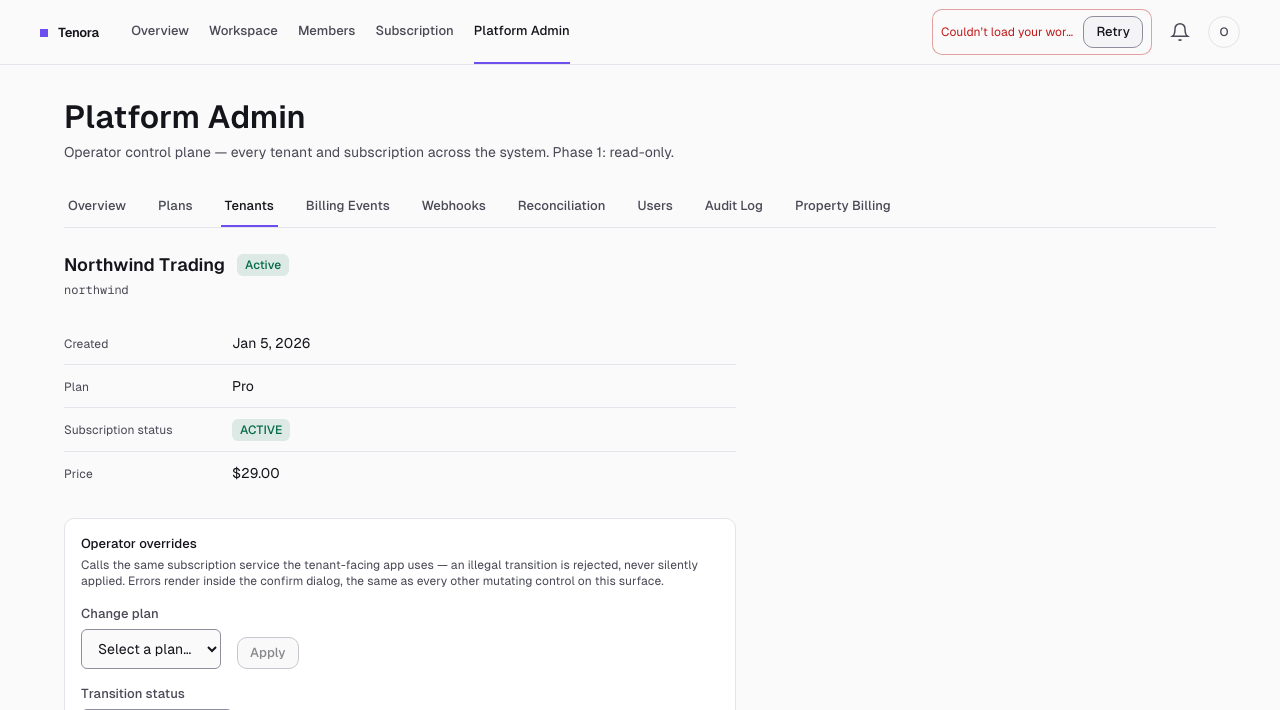
Test: TenantDetailPage — subscription override controls (Phase 2) › no mutation happens before the confirm modal is accepted
The image size is (1280, 710).
Check: the heading "Northwind Trading" is shown, box top-left (64, 252), bottom-right (225, 278)
Select "Team" in the dropdown labelled "Change plan": (151, 649) top-left (81, 629), bottom-right (221, 669)
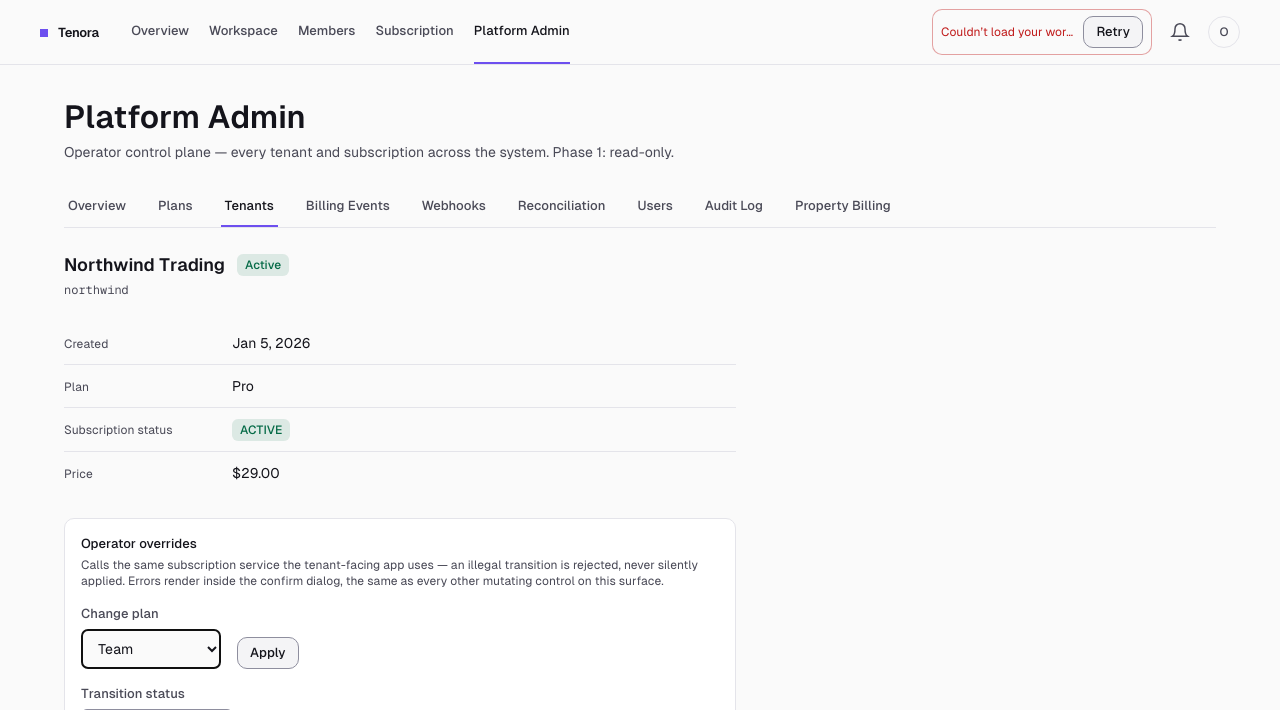
Click the button "Apply" below "Change plan": (268, 653) top-left (237, 637), bottom-right (299, 669)
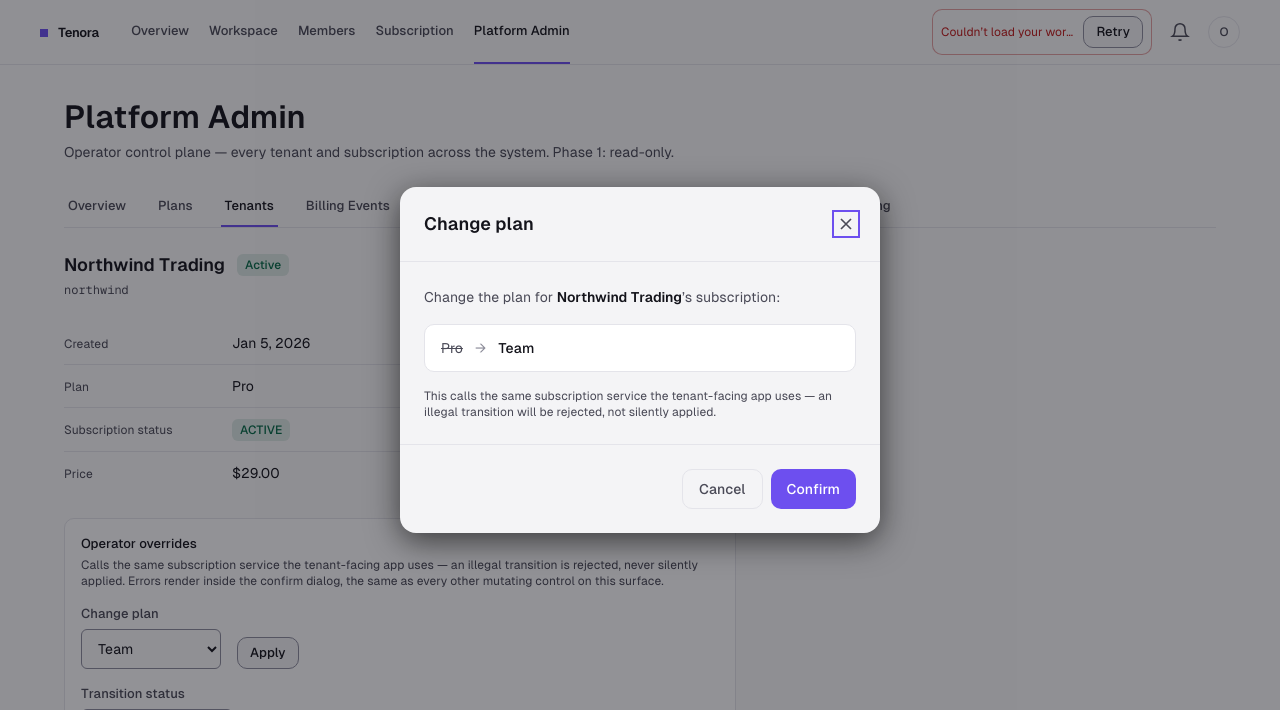
Check: the dialog "Change plan" is shown, box top-left (400, 187), bottom-right (880, 533)
